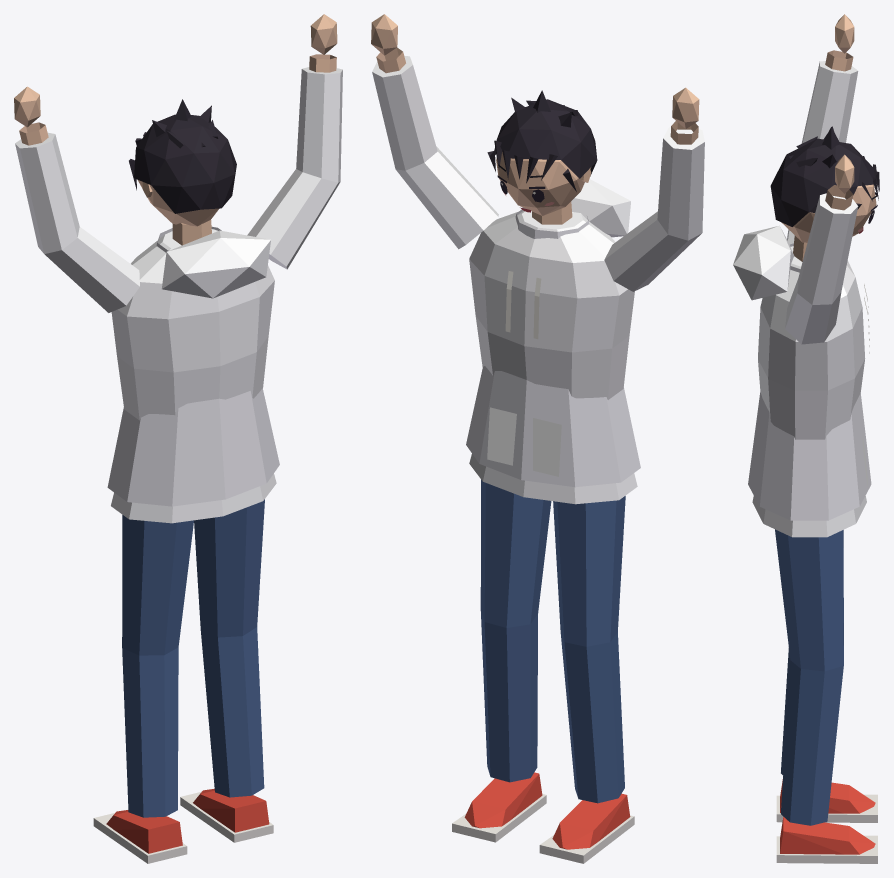
Rendered from spectator_a.glb.
3 views of the same model, side by side, from view 1: azimuth 30°, elevation 25°; view 2: azimuth 150°, elevation 25°; view 3: azimuth 270°, elevation 25° (orthographic). The views are drawn at different scales.
Visible parts, largest first — view 1: spectator_a; view 2: spectator_a; view 3: spectator_a.
Boxes of the visible parts, x1,y1,x2,y2 form: spectator_a: (14,14,342,863); spectator_a: (371,14,704,863); spectator_a: (733,14,879,863).
Bounding box in the file's own units: 0.8218 × 1.88 × 0.334.
